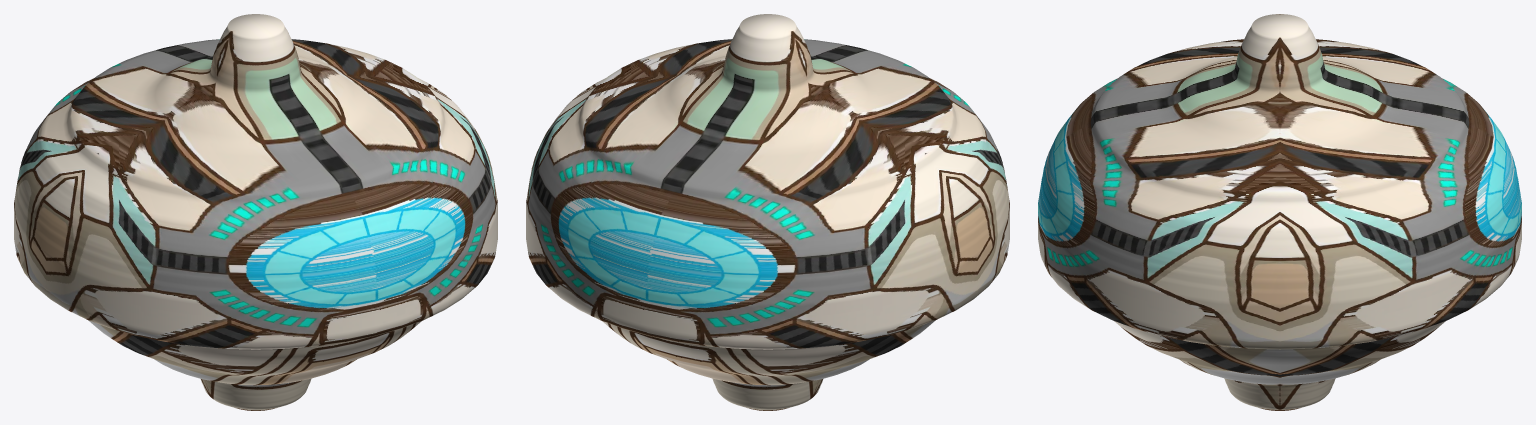
Rendered from round_machine.glb.
3 renders of one model, left to right at view 1: azimuth 30°, elevation 25°; view 2: azimuth 150°, elevation 25°; view 3: azimuth 270°, elevation 25°, orthographic.
Parts seen in each view (by area): view 1: round_machine; view 2: round_machine; view 3: round_machine.
Boxes of the visible parts, x1=… form: round_machine: x1=14, y1=14, x2=497, y2=410; round_machine: x1=526, y1=14, x2=1009, y2=410; round_machine: x1=1038, y1=14, x2=1521, y2=410.
Bounding box in the file's own units: 1 × 0.8477 × 1.
Materials: 1 (1 with a texture image).
